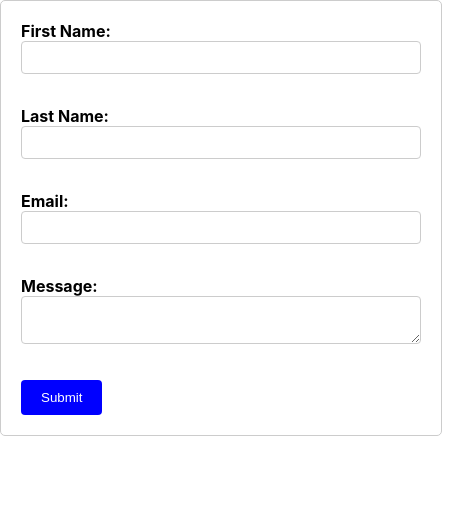
message should be at least 10 characters long
In the text box labelled "Message:": (221, 320) x1=21 y1=296 x2=421 y2=344, type "Short"
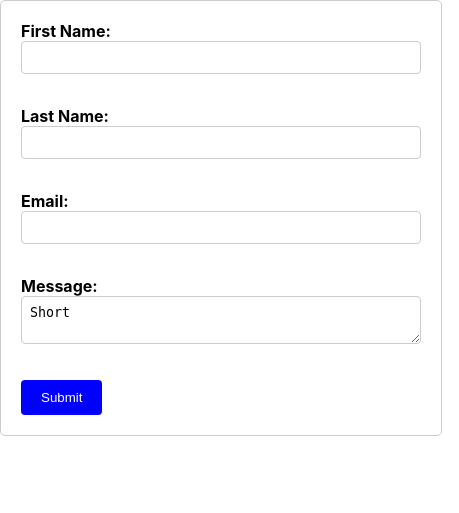
Click the button "Submit": (62, 398) x1=21 y1=380 x2=102 y2=415
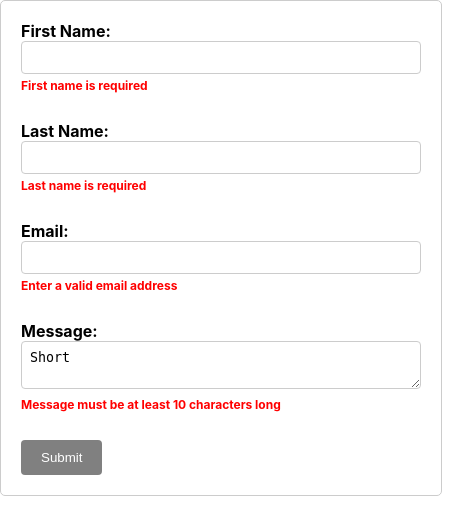
Now the text "Message must be at least 10 characters long" is shown, box x1=21 y1=397 x2=281 y2=412
